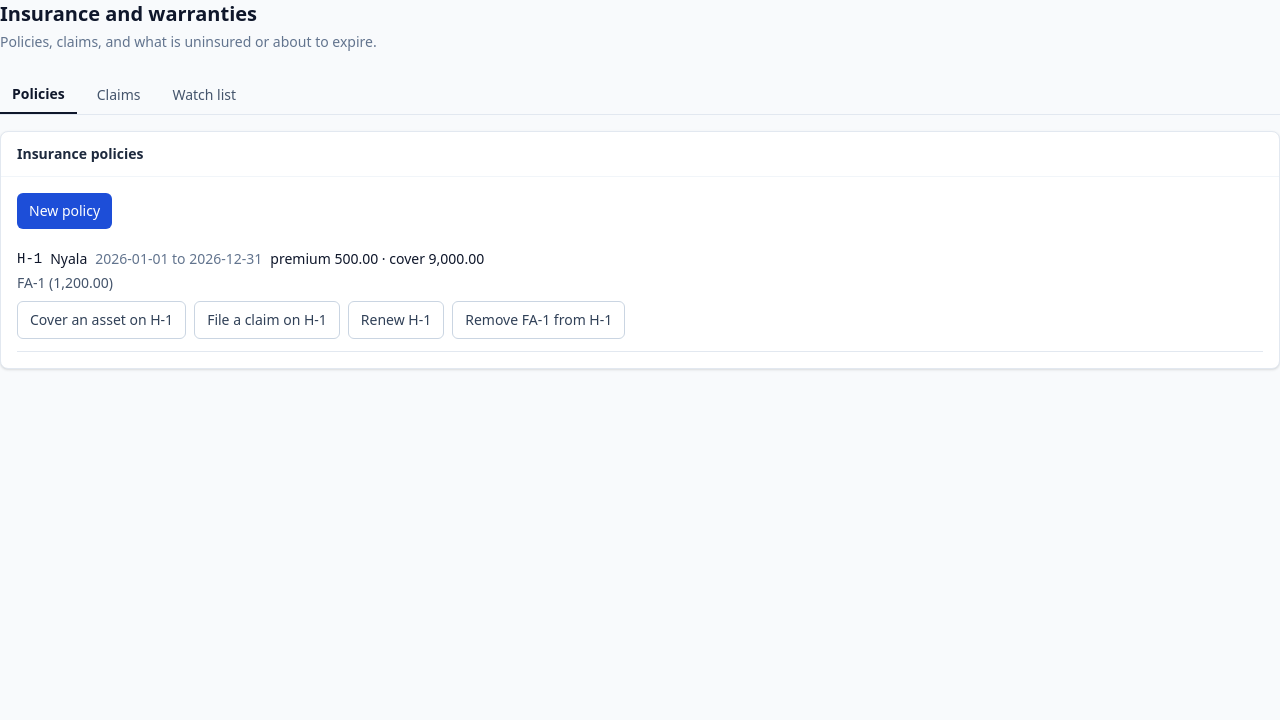
Test case: CoveragePage › lists policies with asset numbers and rejects a claim outside the policy period
Check: the text "FA-1 (1,200.00)" is shown, box x1=17 y1=273 x2=113 y2=292
Click the button "File a claim on H-1" at (267, 320), box x1=194 y1=301 x2=340 y2=339
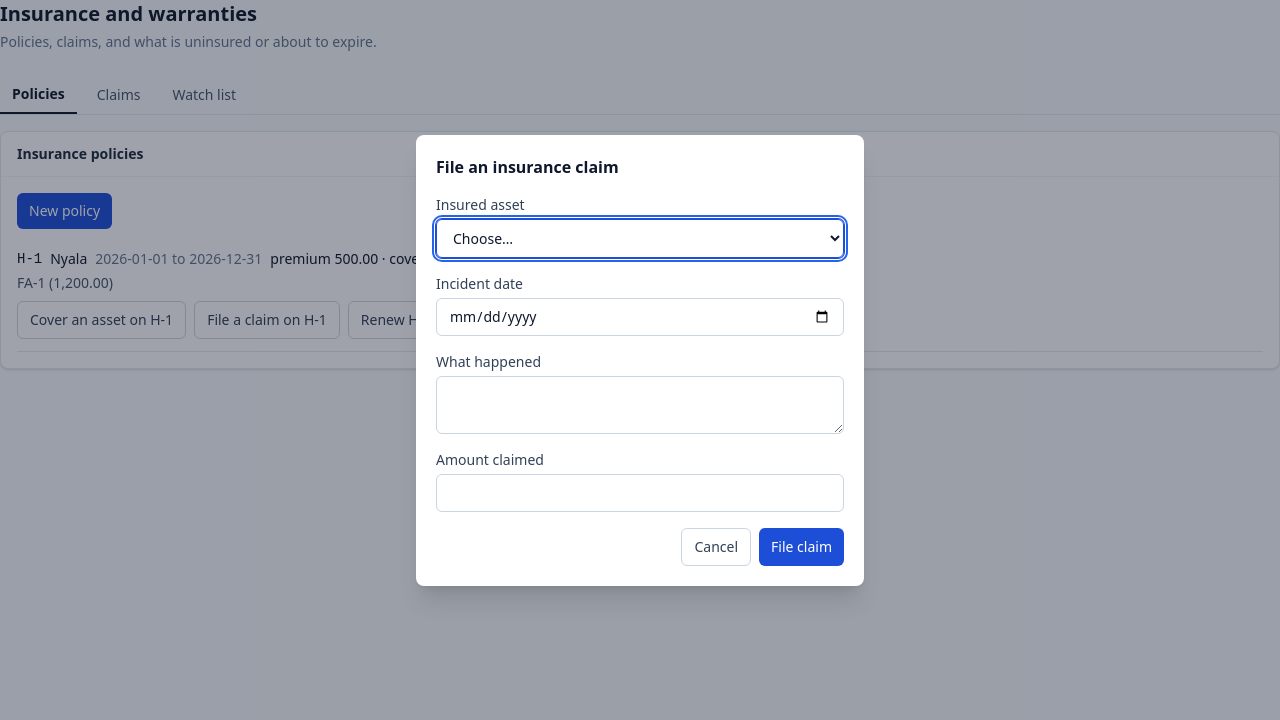
Select "FA-1" in the dropdown labelled "Insured asset" at (640, 238), box x1=436 y1=218 x2=844 y2=258
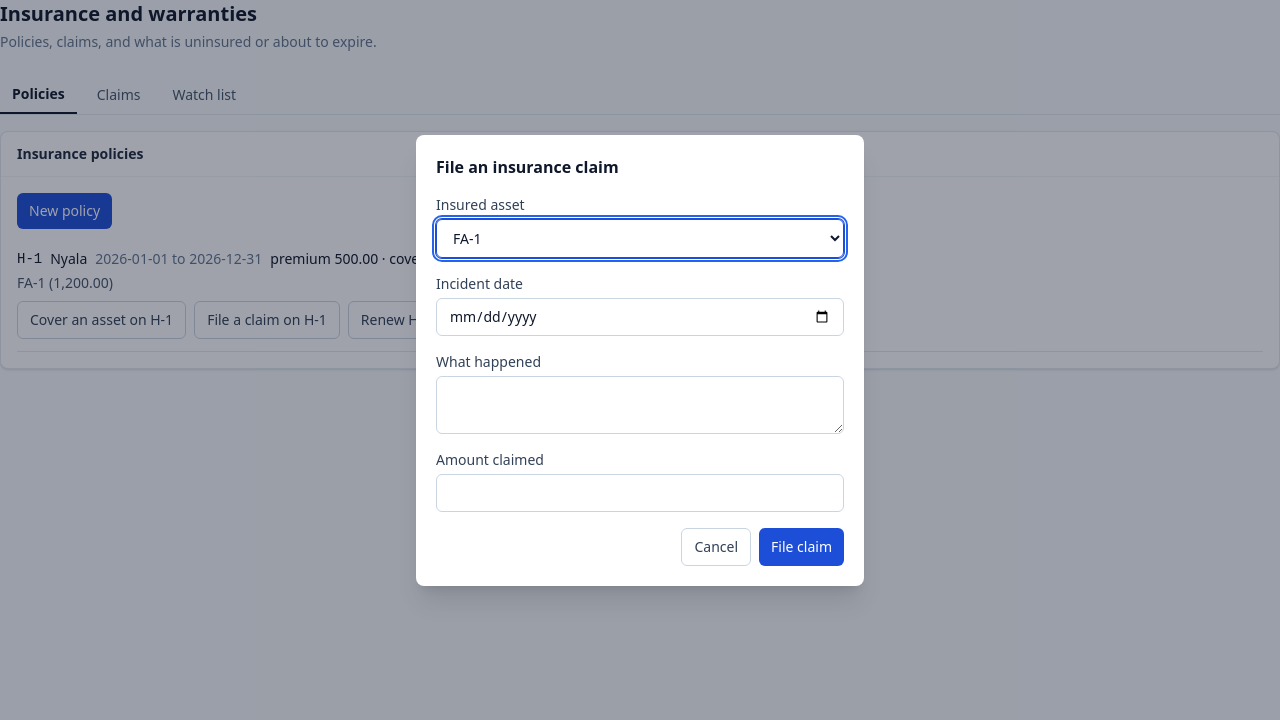
Type "Fire" into the text box labelled "What happened" at (640, 404), box x1=436 y1=376 x2=844 y2=434
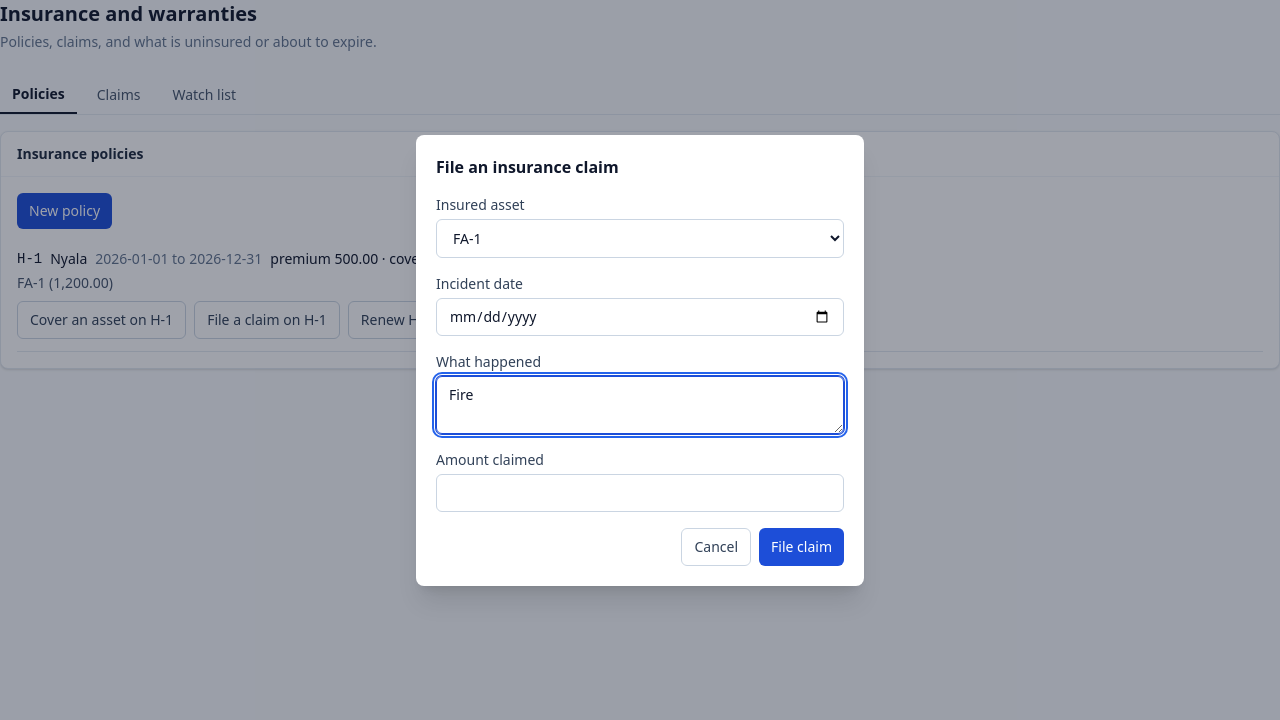
Type "2027-03-01" into the date field labelled "Incident date" at (640, 316), box x1=436 y1=298 x2=844 y2=336
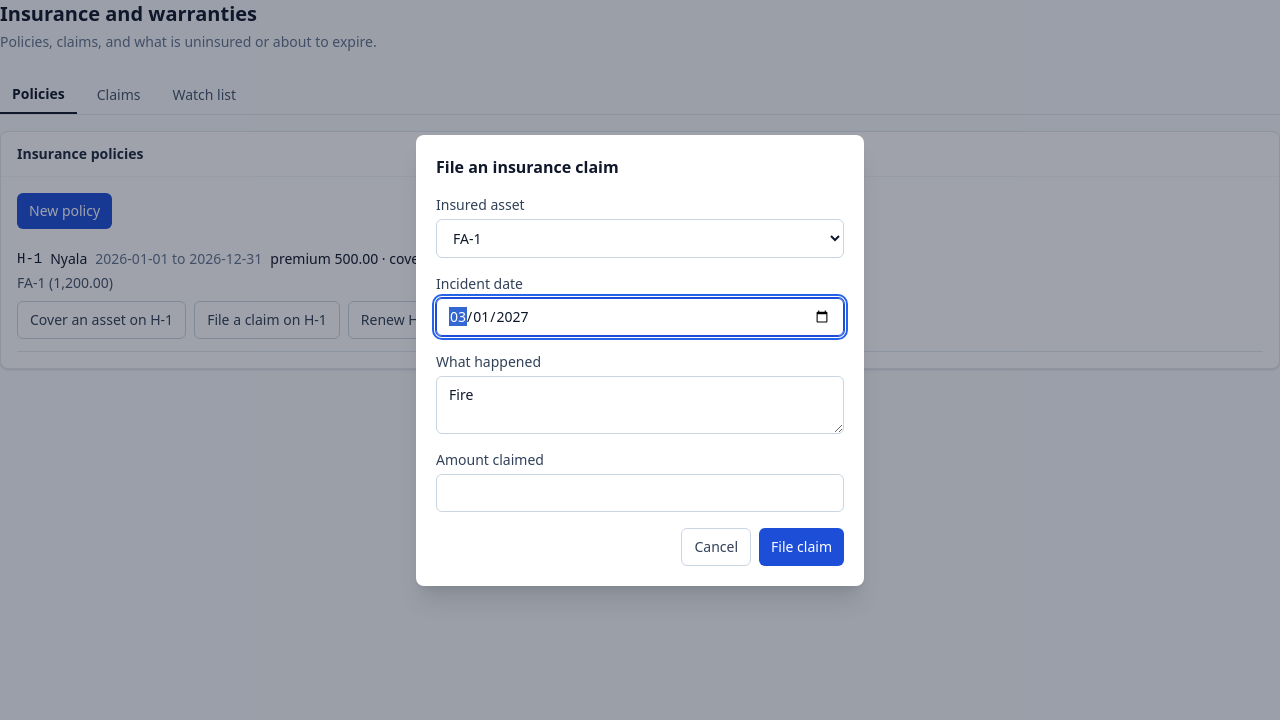
Click the button "File claim" at (802, 546), box x1=759 y1=528 x2=844 y2=566
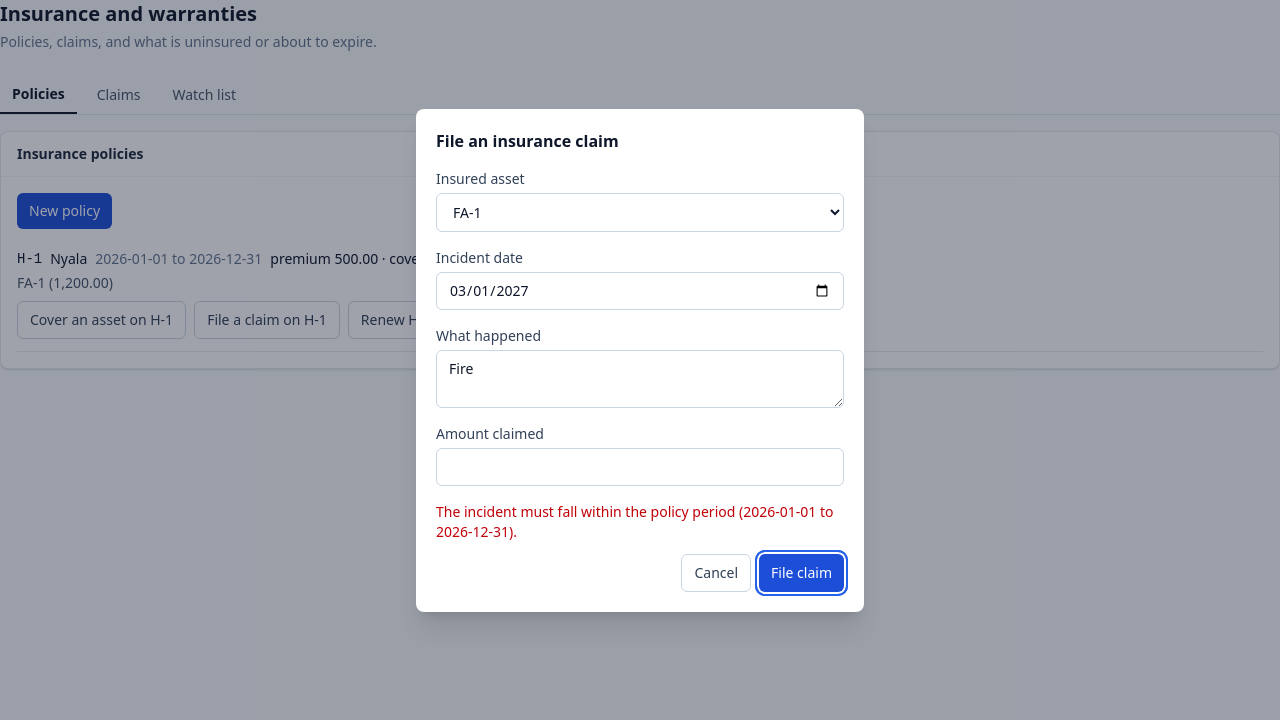
Check: the text "The incident must fall within the policy period (2026-01-01 to 2026-12-31)." is shown, box x1=436 y1=502 x2=844 y2=542
